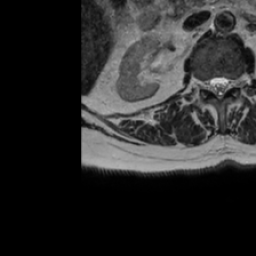CCS_normal: (215, 67, 223, 106)
LFS_normal: (231, 67, 239, 97)
LLS_normal: (223, 67, 231, 98)
RFS_normal: (199, 70, 207, 98)
RLS_normal: (207, 69, 215, 99)
